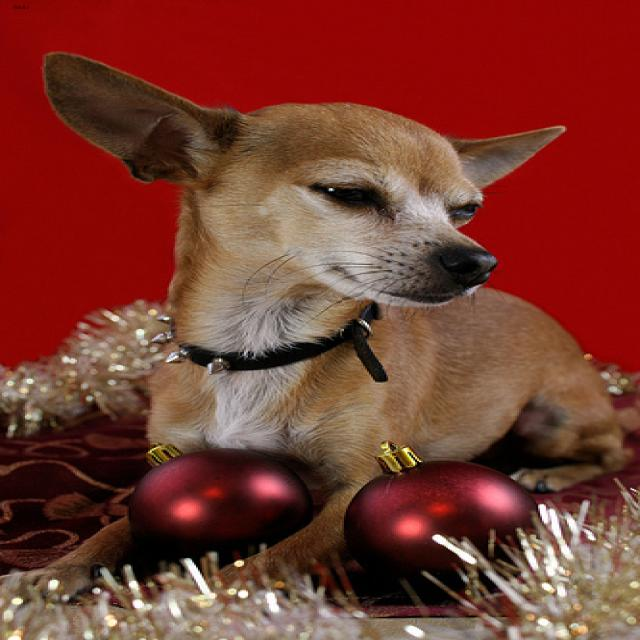dog-chihuahua: (23, 37, 636, 593)
